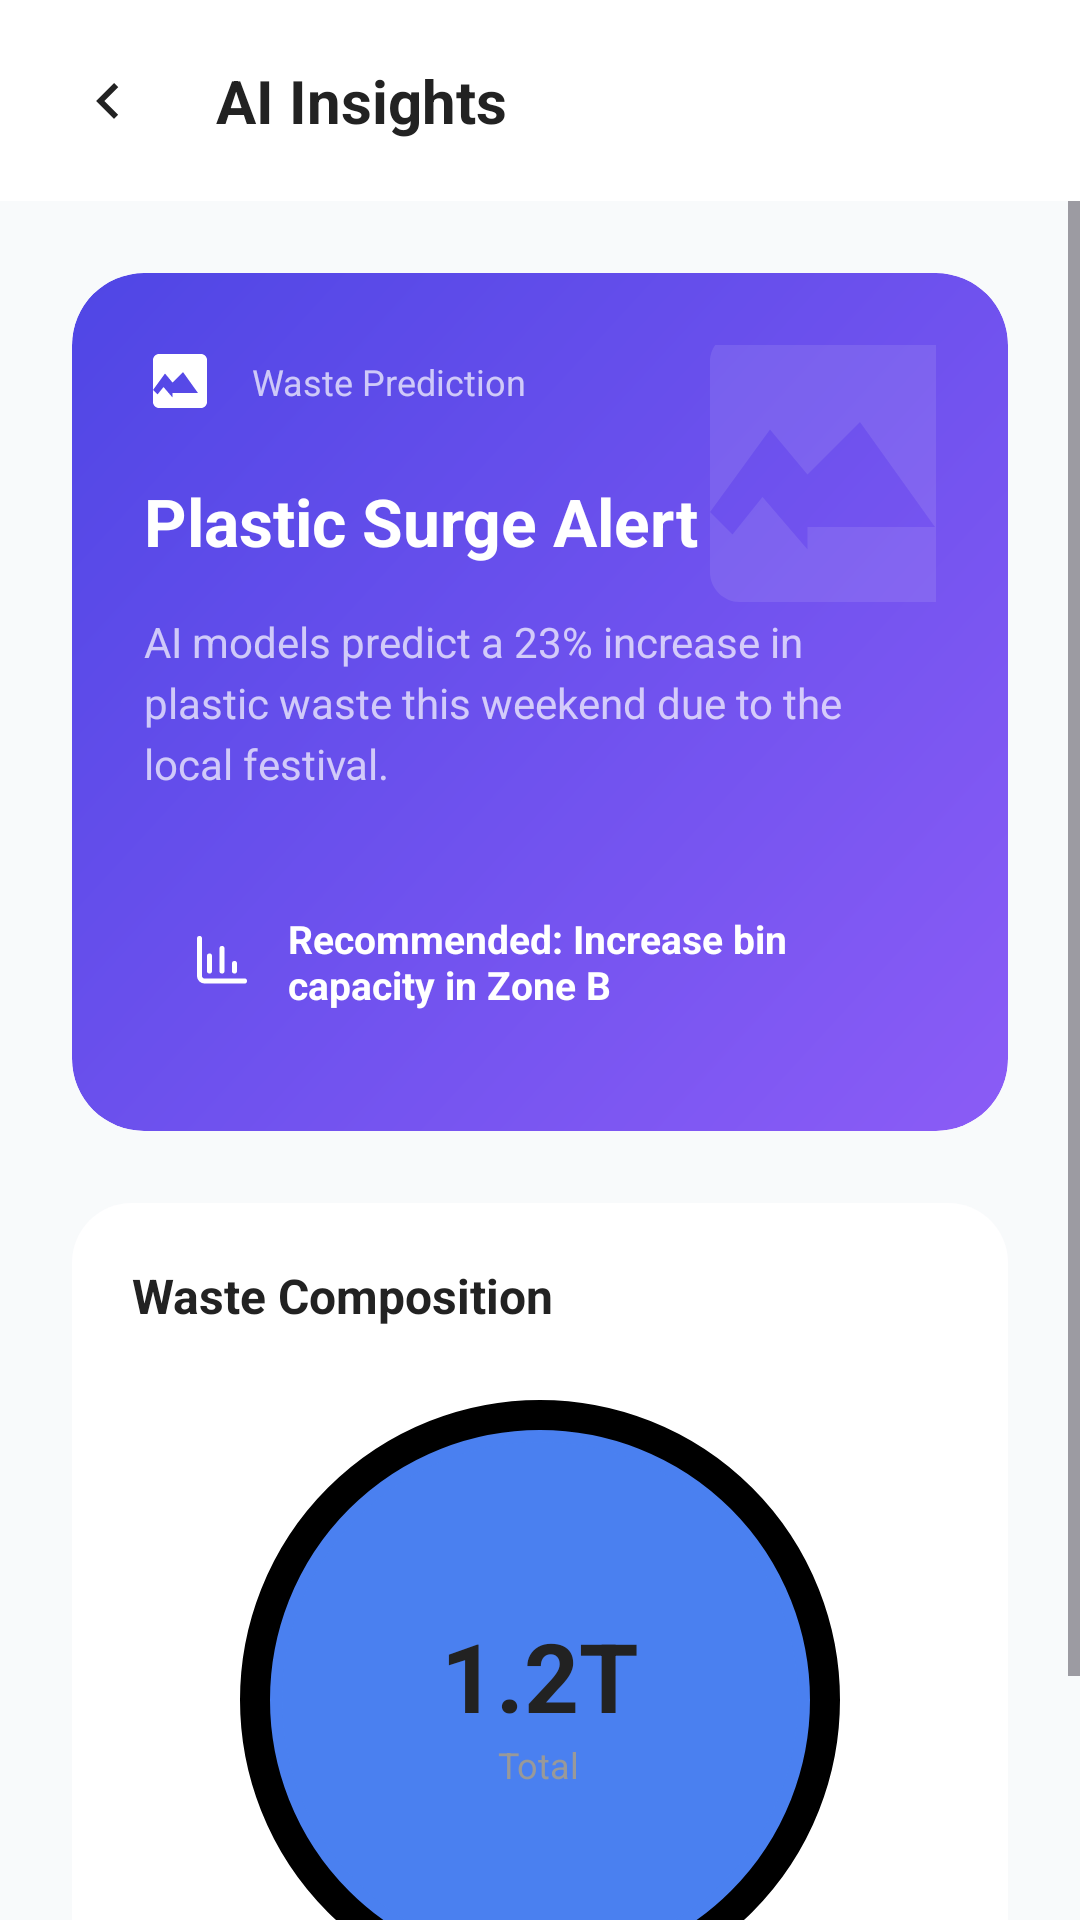

Point at icon controls on the screen. Image size 1080w x 1920h, points as [x,y].
Back: [107,101]
chart: [222,960]
